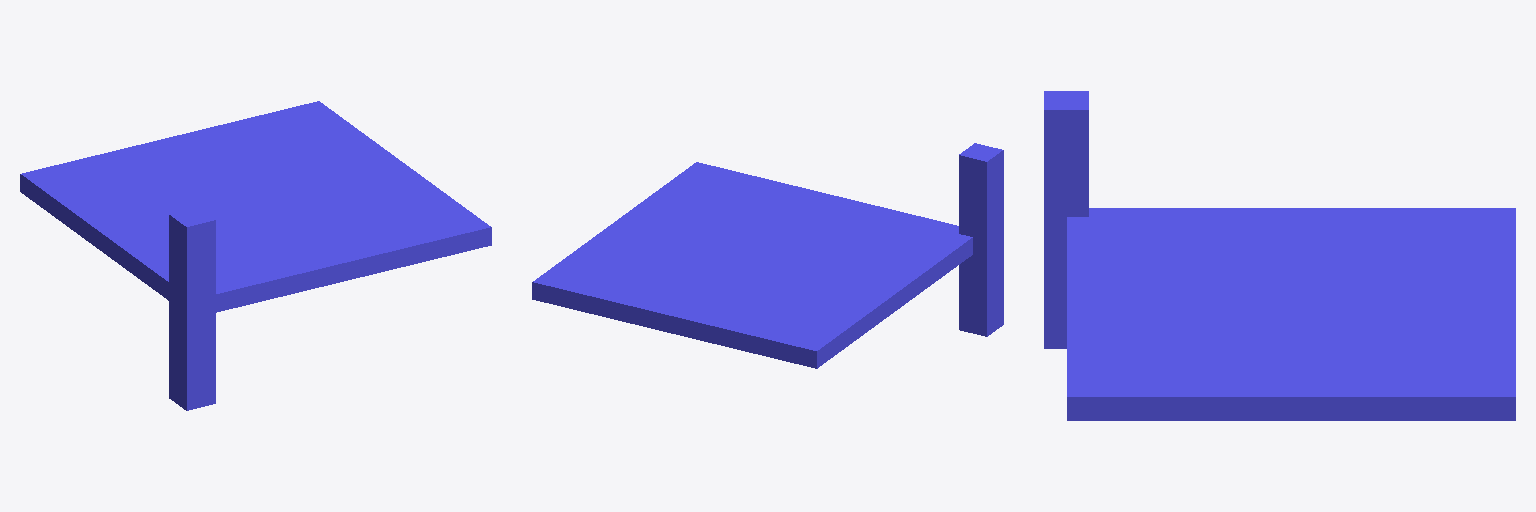
robot.urdf — blocks:
<robot name="blocks">

  <link name="world">
    <inertial>
      <mass value="0"/>
      <inertia ixx="0" ixy="0" ixz="0"
                  iyx="0" iyy="0" iyz="0"
                  izx="0" izy="0" izz="0"/>
    </inertial>
  </link>

  <link name="stand">
    <inertial>
      <origin xyz="0 0 0" />
      <mass value="0.1" />
      <inertia  ixx="0.00003375" ixy="0.0"  ixz="0.0"  iyy="0.00003375"  iyz="0.0"  izz="0.00003375" />
    </inertial>

    <visual>
      <origin xyz="0 0 0"/>
      <geometry>
        <box size="0.085 0.085 0.50" />
      </geometry>
      <material name="red">
        <color rgba="0.4 0.4 1.0 1.0"/>
      </material>
    </visual>

    <collision>
      <origin xyz="0 0 0"/>
      <geometry>
        <box size="0.085 0.085 0.50" />
      </geometry>
    </collision>

  </link>


  <link name="block">

      <inertial>
        <origin xyz="0 0 0" />
        <mass value="0.1" />
        <inertia  ixx="0.00003375" ixy="0.0"  ixz="0.0"  iyy="0.00003375"  iyz="0.0"  izz="0.00003375" />
      </inertial>

      <visual>
        <origin xyz="0 0 0"/>
        <geometry>
          <box size="0.85 0.85 0.050" />
        </geometry>
        <material name="red">
          <color rgba="0.4 0.4 1.0 1.0"/>
        </material>
      </visual>

      <collision>
        <origin xyz="0 0 0"/>
        <geometry>
          <box size="0.85 0.85 0.050" />
        </geometry>
      </collision>

  </link>



  <!-- connect arm to world -->
  <joint name="world_arm_joint" type="fixed">
    <parent link="world"/>
    <child link="stand"/>
    <axis xyz="0 0 0"/>
    <origin rpy="0.0 0.0 0.0" xyz="0 0 0"/>
  </joint>

  <joint name="prismatic_joint" type="prismatic">
    <parent link="stand"/>
    <child link="block"/>
    <axis xyz="0 0 1"/>
    <limit upper="1000" lower="-0.8757" velocity="2.0"/>
    <origin rpy="0.0 0.0 0" xyz="0.425 0.425 0"/>
  </joint>


</robot>

--- Render facts (derived) ---
Views: 3 orthographic renders of the robot side by side, from view 1: azimuth 30°, elevation 25°; view 2: azimuth 150°, elevation 25°; view 3: azimuth 270°, elevation 25°.
Robot: blocks — 3 links, 2 joints (1 prismatic, 1 fixed); root link world; default pose: all joints at 0.
Links seen in each view (by area): view 1: block, stand; view 2: block, stand; view 3: block, stand.
Boxes of the visible links, x1,y1,x2,y2 form: block: (20, 101, 491, 312); stand: (169, 207, 215, 410); block: (532, 162, 972, 368); stand: (959, 143, 1003, 336); block: (1067, 208, 1515, 420); stand: (1044, 91, 1088, 348).
Bounding box of the posed robot: 0.8925 × 0.8925 × 0.5 m (x, y, z).
Geometry: primitives only (box / cylinder / sphere), no mesh files.